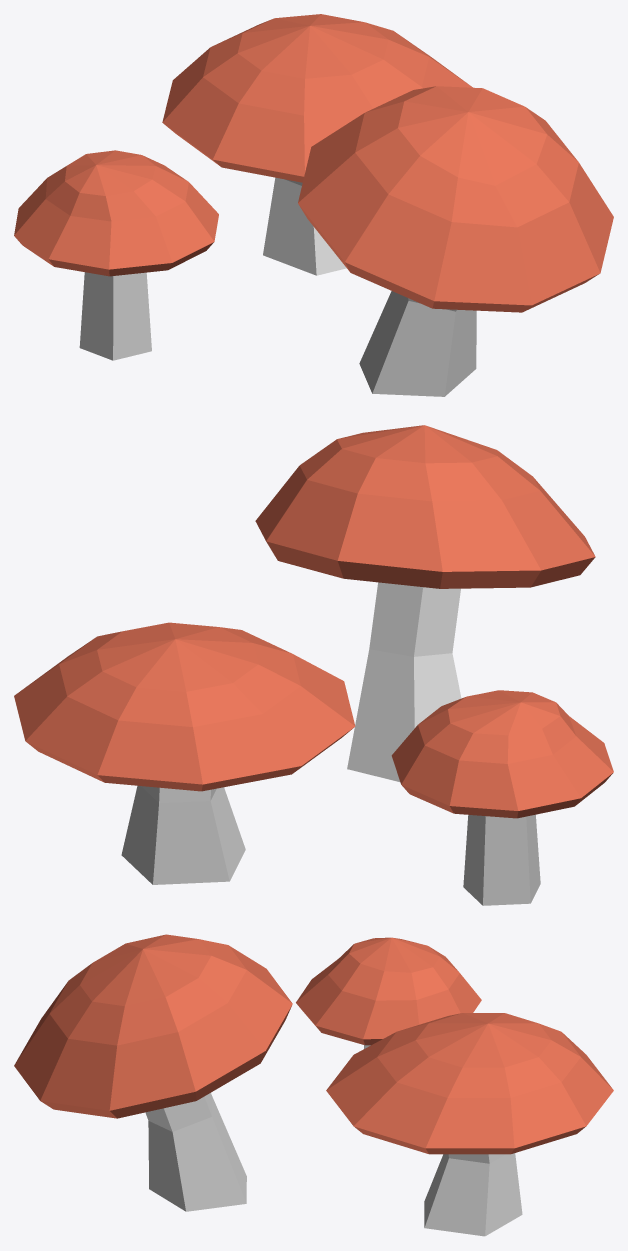
The model's file is Mushrooms.fbx.
3 renders of one model, top to bottom at view 1: azimuth 30°, elevation 25°; view 2: azimuth 150°, elevation 25°; view 3: azimuth 270°, elevation 25°, orthographic. The views are drawn at different scales.
Parts seen in each view (by area): view 1: Mushrooms; view 2: Mushrooms; view 3: Mushrooms.
Part boxes in pixels (x1,y1,x2,y2): Mushrooms: (14,14,613,396); Mushrooms: (14,425,613,905); Mushrooms: (14,934,613,1236).
Size of the model in its own units: 0.5497 by 0.3129 by 0.6836.
